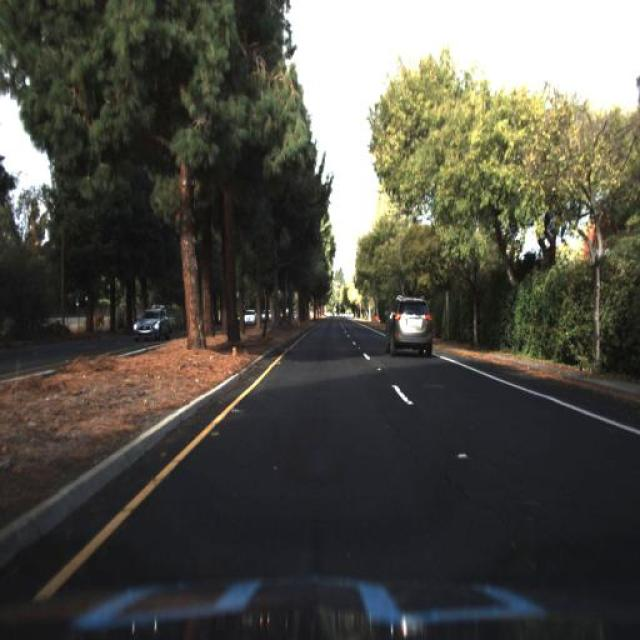car: (384, 292, 432, 353), (130, 293, 180, 343), (136, 304, 172, 344)
